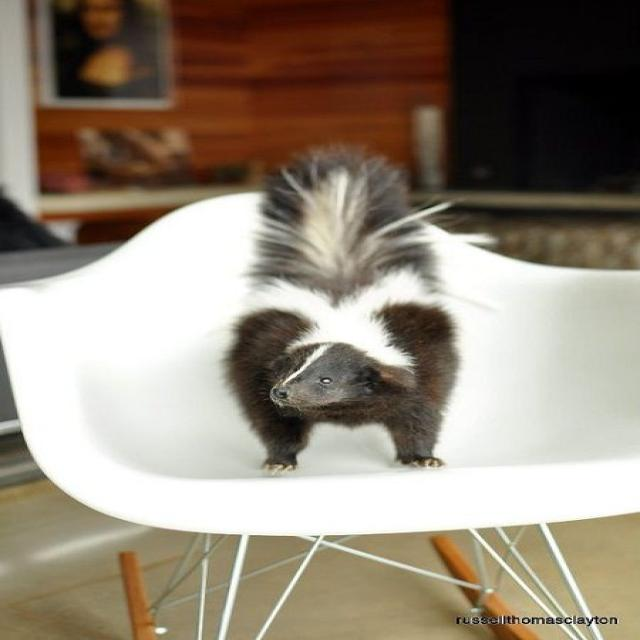Skunk: (187, 128, 510, 490)
